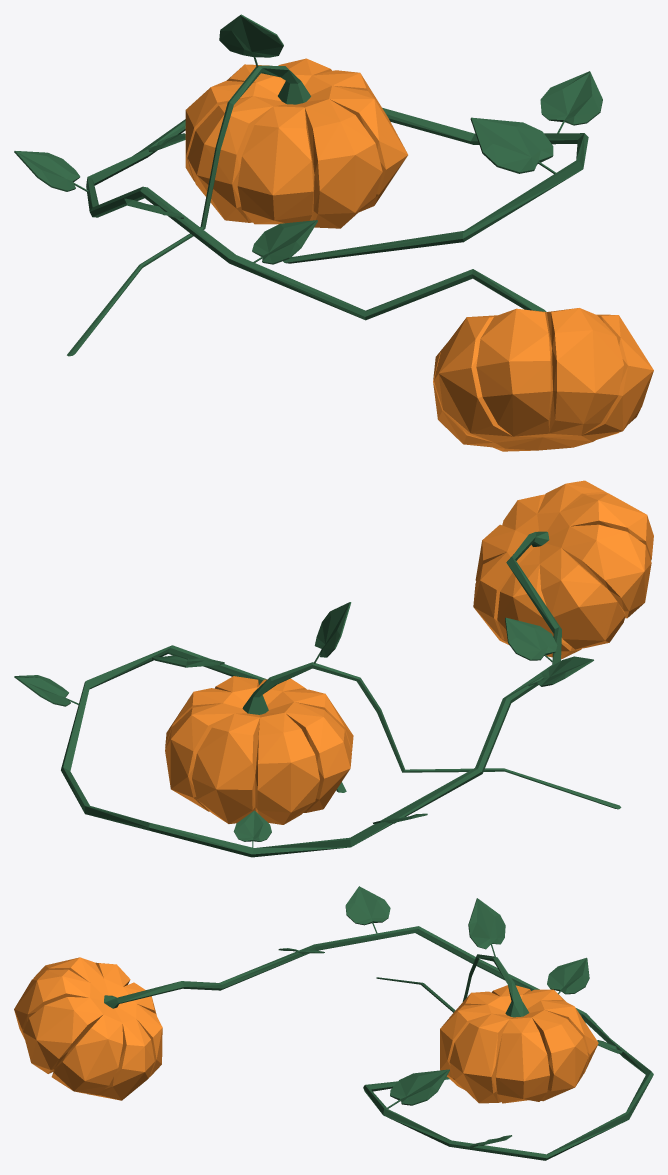
File: mod_Plant_PotironM.fbx
3 views of the same model, one above another, from view 1: azimuth 30°, elevation 25°; view 2: azimuth 150°, elevation 25°; view 3: azimuth 270°, elevation 25° (orthographic). The views are drawn at different scales.
Visible parts, largest first — view 1: TigePotiron.001; view 2: TigePotiron.001; view 3: TigePotiron.001.
Part boxes in pixels (x1,y1,x2,y2): TigePotiron.001: [14, 14, 653, 451]; TigePotiron.001: [14, 480, 653, 857]; TigePotiron.001: [14, 886, 653, 1160].
Bounding box in the file's own units: 186 × 73.46 × 238.
